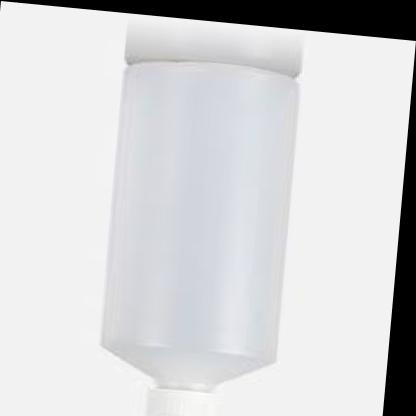trash: (102, 20, 302, 390)
